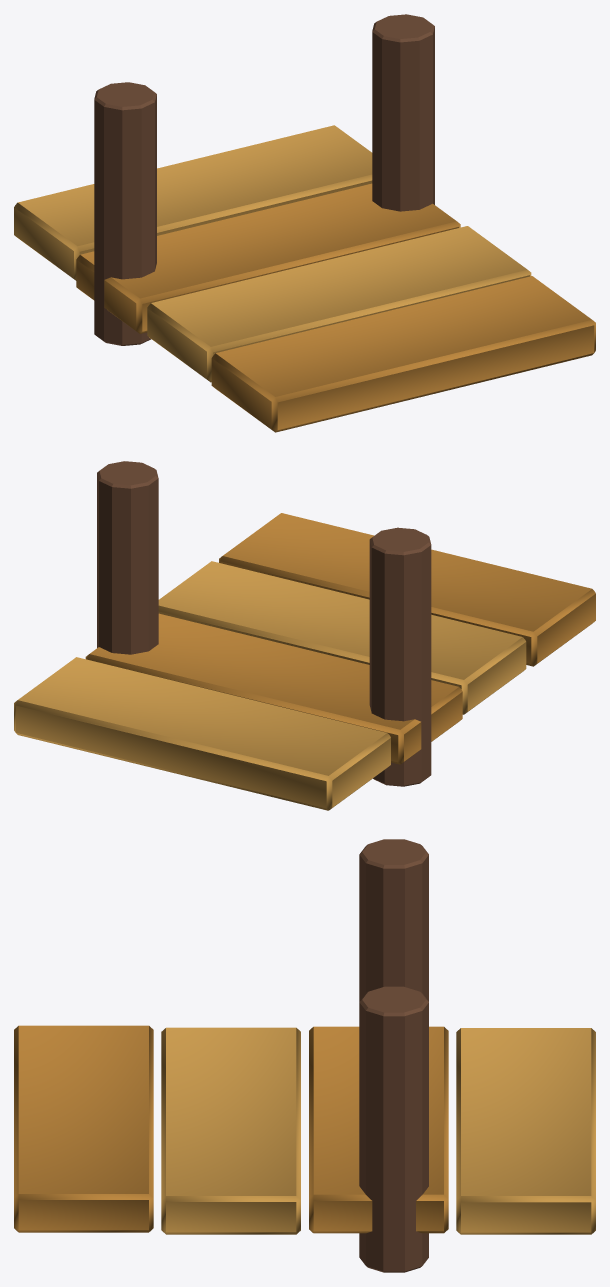
The model's file is prop_dock_ferry.glb.
The picture shows the model from 3 angles, top to bottom: view 1: azimuth 30°, elevation 25°; view 2: azimuth 150°, elevation 25°; view 3: azimuth 270°, elevation 25°; orthographic projection. The views are drawn at different scales.
Visible parts, largest first — view 1: fdock_plank0, fdock_plank1, fdock_plank2, fdock_plank3, fdock_postFalse, fdock_postTrue; view 2: fdock_plank3, fdock_plank0, fdock_plank1, fdock_plank2, fdock_postFalse, fdock_postTrue; view 3: fdock_plank0, fdock_plank1, fdock_plank3, fdock_postTrue, fdock_plank2, fdock_postFalse.
Part boxes in pixels (x1,y1,x2,y2): fdock_plank0: [211, 276, 595, 432]; fdock_plank1: [147, 226, 531, 382]; fdock_plank2: [76, 183, 460, 333]; fdock_plank3: [14, 125, 372, 280]; fdock_postFalse: [94, 82, 156, 345]; fdock_postTrue: [372, 14, 434, 211]; fdock_plank3: [14, 657, 390, 810]; fdock_plank0: [219, 513, 595, 666]; fdock_plank1: [158, 561, 526, 714]; fdock_plank2: [85, 613, 462, 764]; fdock_postFalse: [369, 527, 431, 786]; fdock_postTrue: [97, 461, 158, 654]; fdock_plank0: [14, 1025, 153, 1232]; fdock_plank1: [161, 1027, 300, 1234]; fdock_plank3: [456, 1028, 595, 1234]; fdock_postTrue: [359, 986, 428, 1272]; fdock_plank2: [309, 1026, 448, 1233]; fdock_postFalse: [359, 839, 428, 1001].
Bounding box in the file's own units: 1.07 × 0.74 × 1.5.
